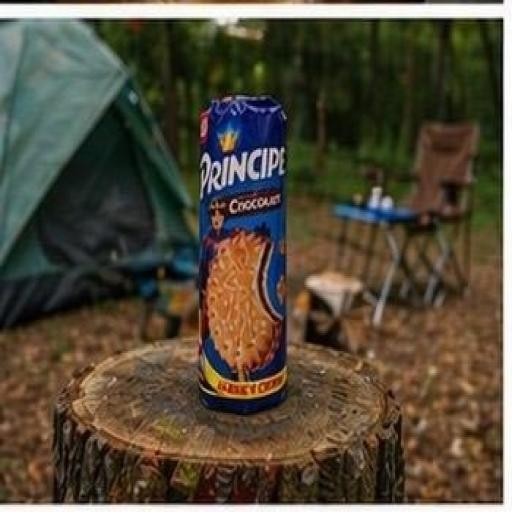prince: (168, 90, 390, 455)
